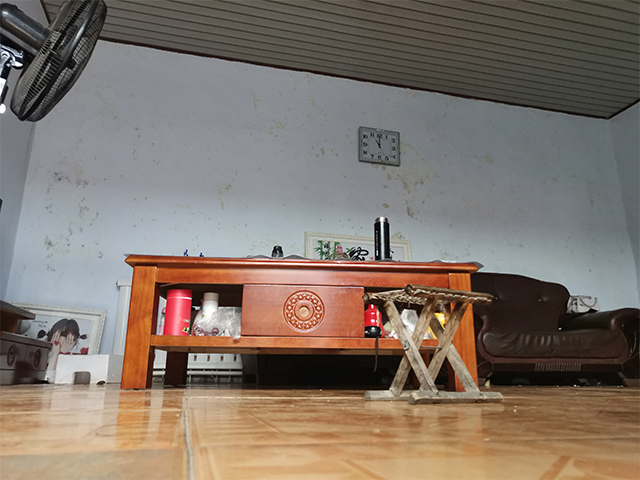cabinet: (1, 300, 56, 387)
sofa: (469, 270, 640, 389)
stool: (358, 282, 505, 405)
table: (118, 252, 480, 391)
